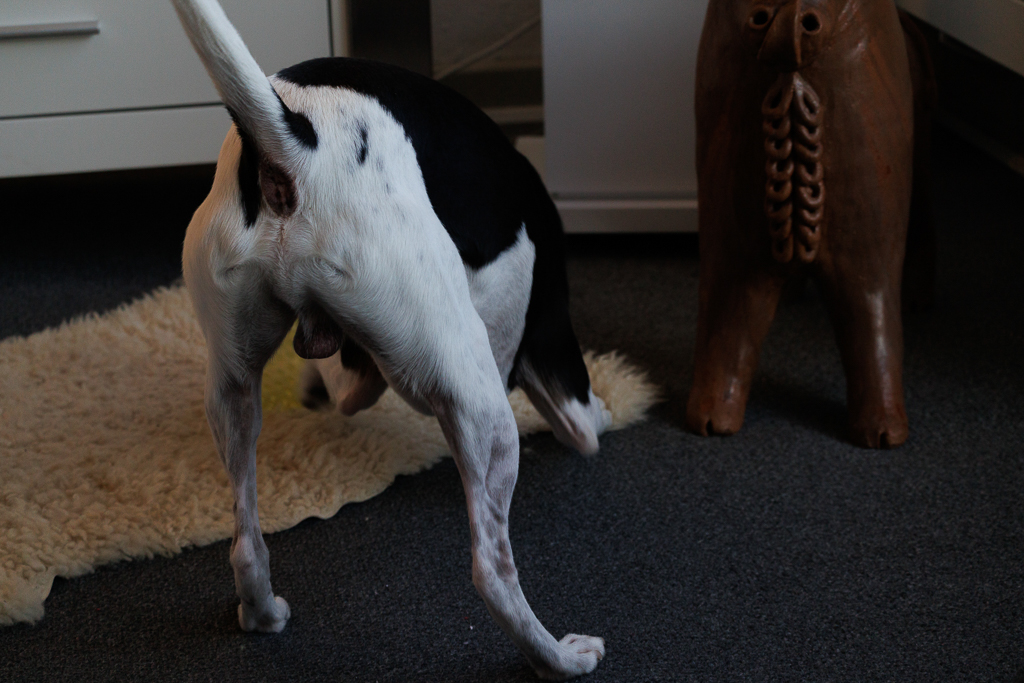Cattle: (681, 0, 929, 459)
Dog: (161, 0, 622, 679)
